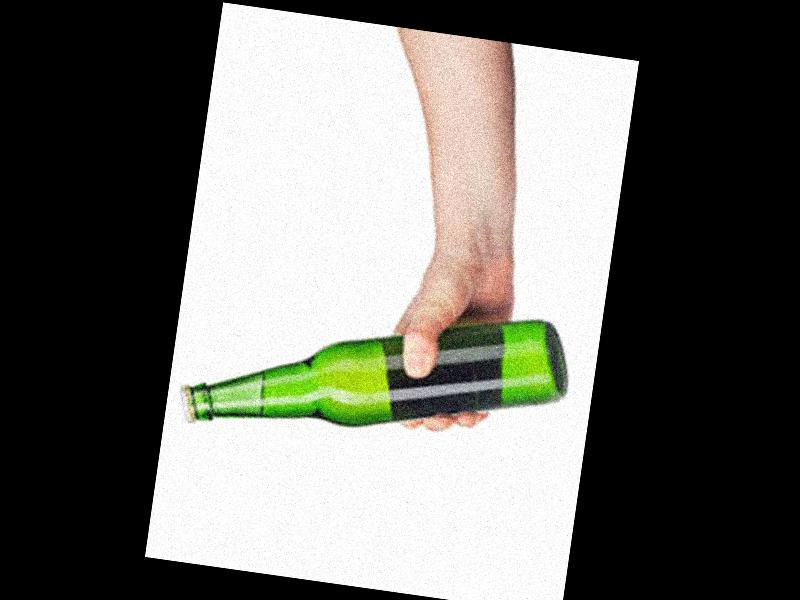Beer: (176, 271, 576, 474)
